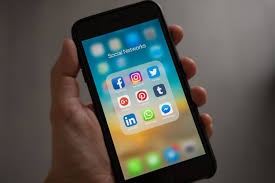phone: (68, 5, 221, 174)
